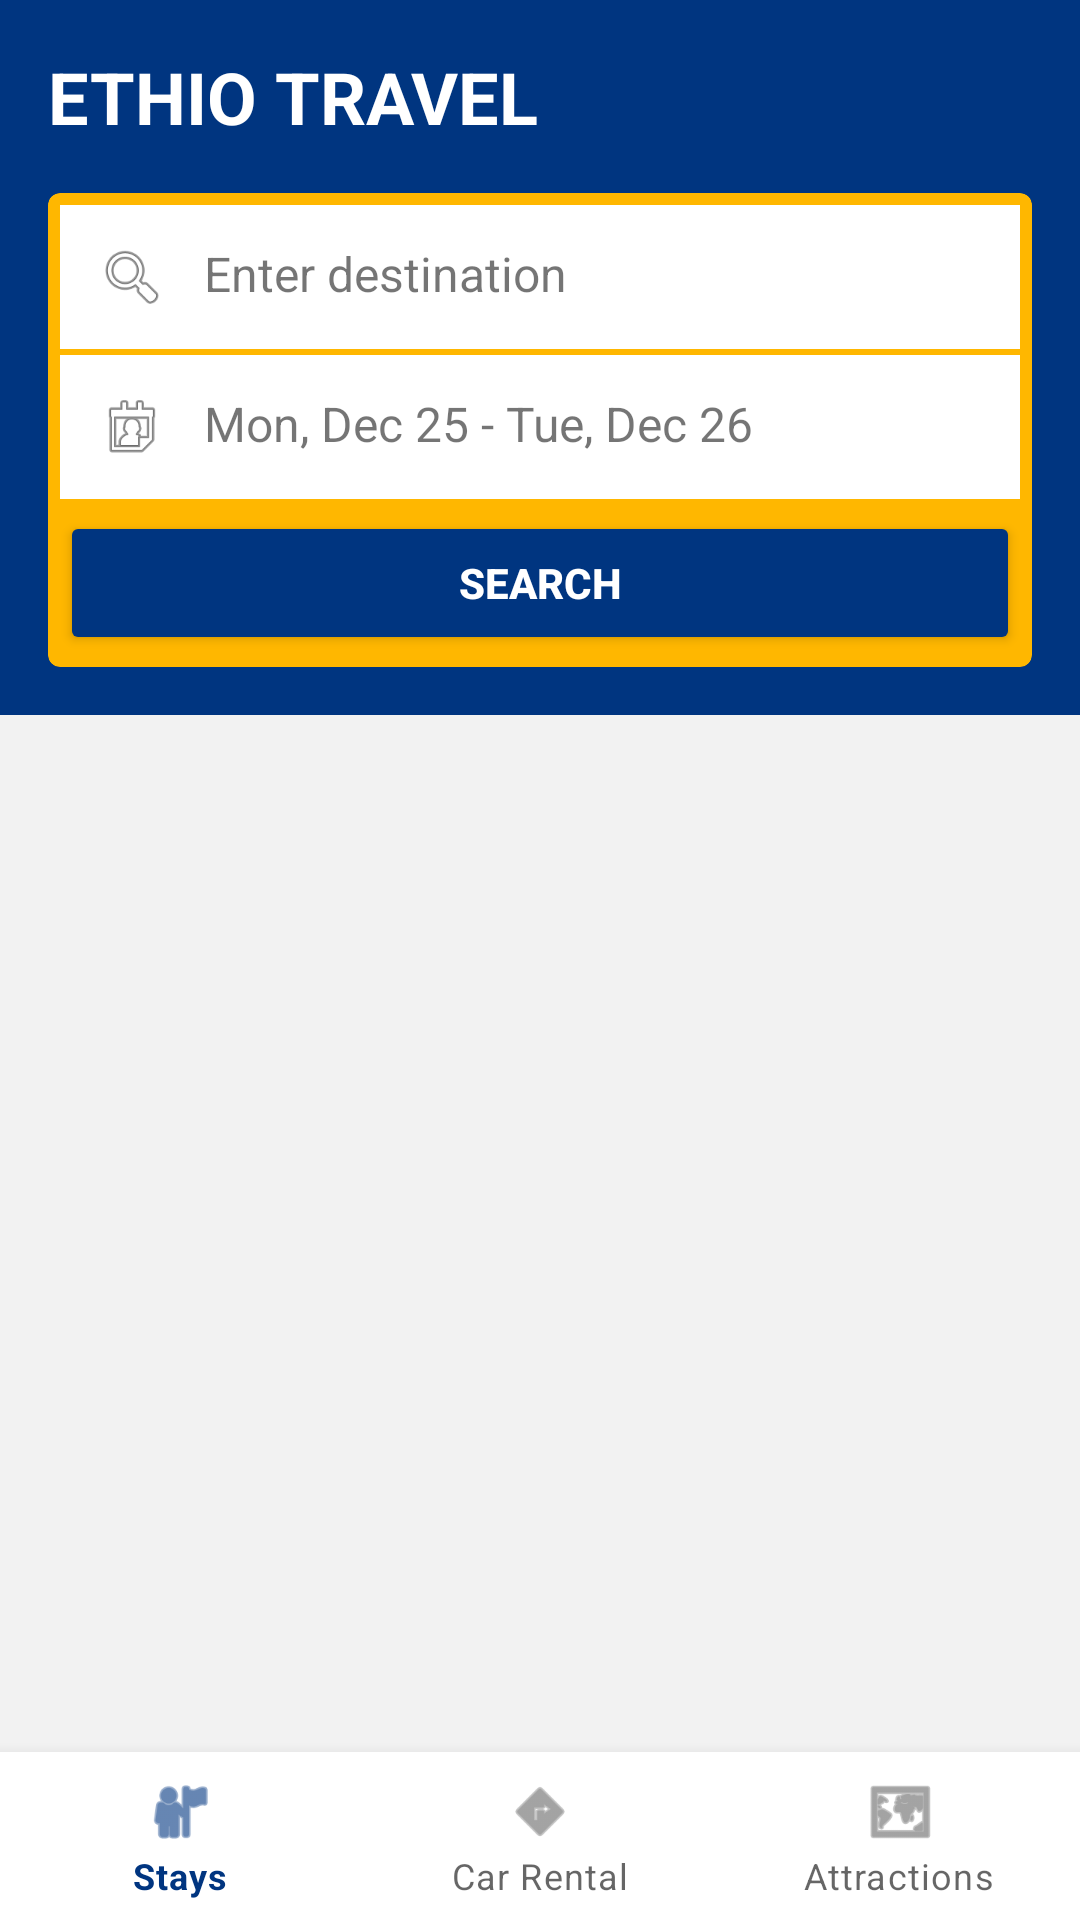

Where to tap for icons on this 1080×1920 app screen, as (x,y):
calendar: (132,426)
search: (132,277)
